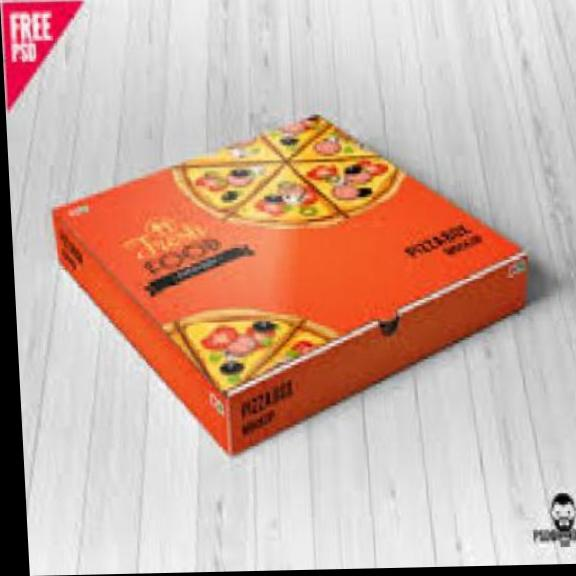Kertas: (55, 116, 526, 452)
